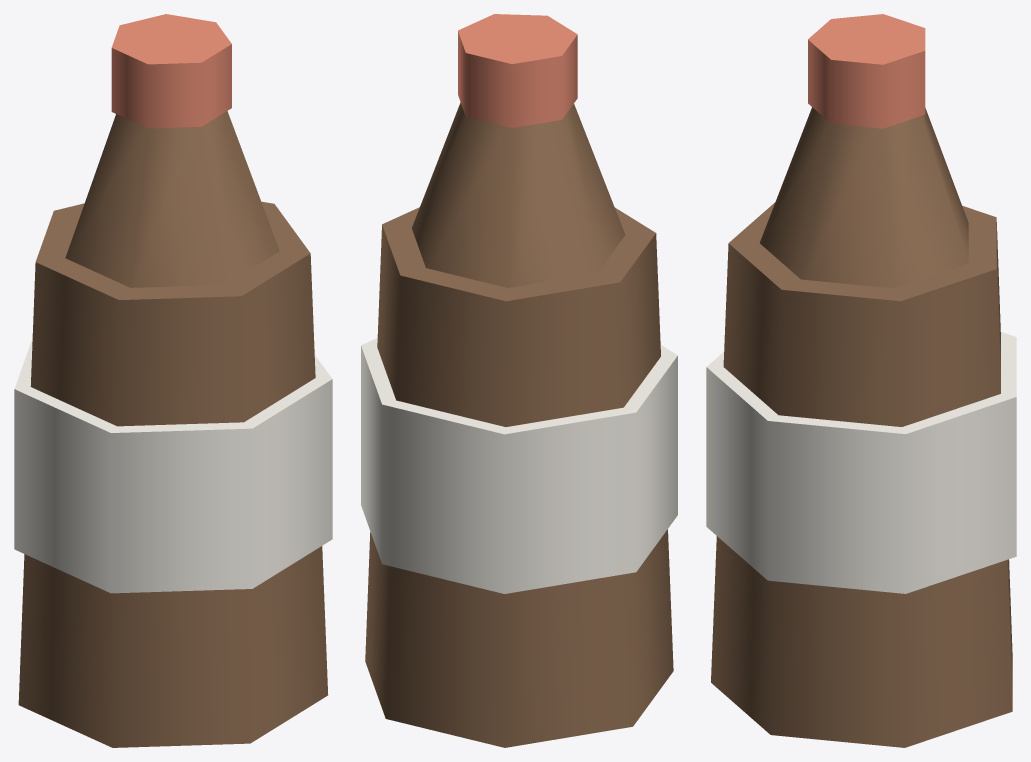
The model's file is choco.glb.
The picture shows the model from 3 angles, left to right: view 1: azimuth 30°, elevation 25°; view 2: azimuth 150°, elevation 25°; view 3: azimuth 270°, elevation 25°; orthographic projection.
Parts seen in each view (by area): view 1: choco; view 2: choco; view 3: choco.
Part boxes in pixels (x1,y1,x2,y2): choco: (14, 14, 332, 747); choco: (361, 14, 677, 747); choco: (706, 14, 1016, 747).
Bounding box in the file's own units: 0.3607 × 0.805 × 0.3517.
